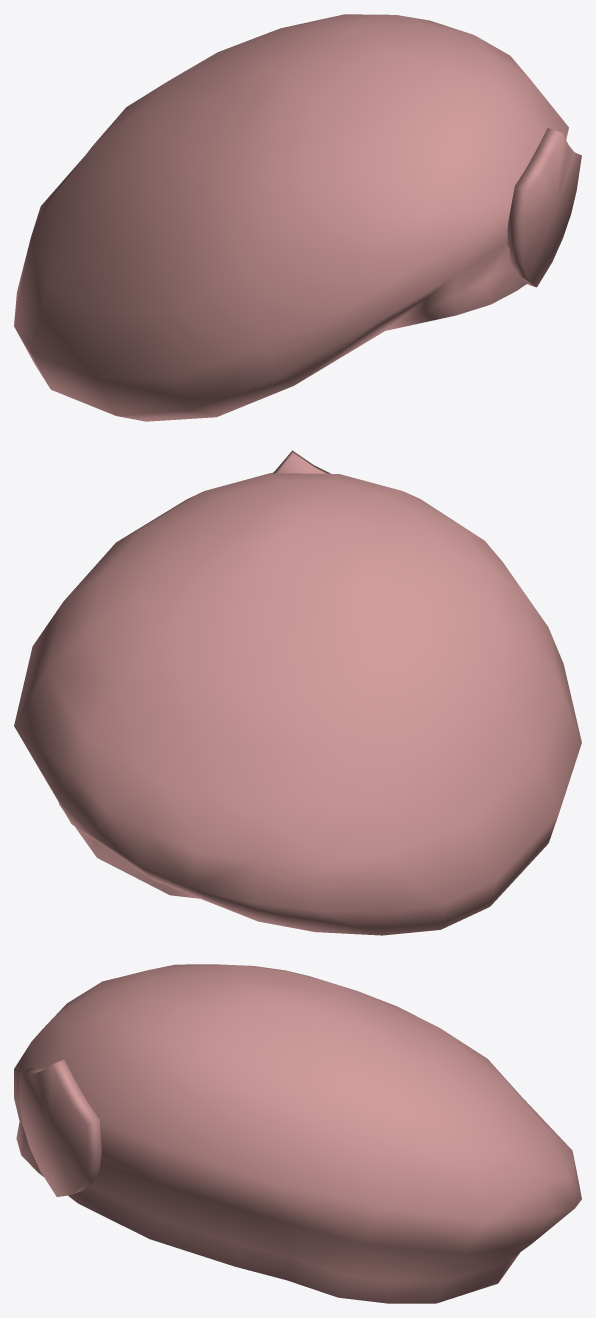
The model's file is hat_002.fbx.
3 renders of one model, top to bottom at view 1: azimuth 30°, elevation 25°; view 2: azimuth 150°, elevation 25°; view 3: azimuth 270°, elevation 25°, orthographic. The views are drawn at different scales.
Visible parts, largest first — view 1: hat_002_m; view 2: hat_002_m; view 3: hat_002_m.
Boxes of the visible parts, x1,y1,x2,y2 form: hat_002_m: [14, 14, 581, 421]; hat_002_m: [14, 450, 581, 935]; hat_002_m: [14, 964, 581, 1303].
Size of the model in its own units: 17.26 by 11.52 by 19.06.
